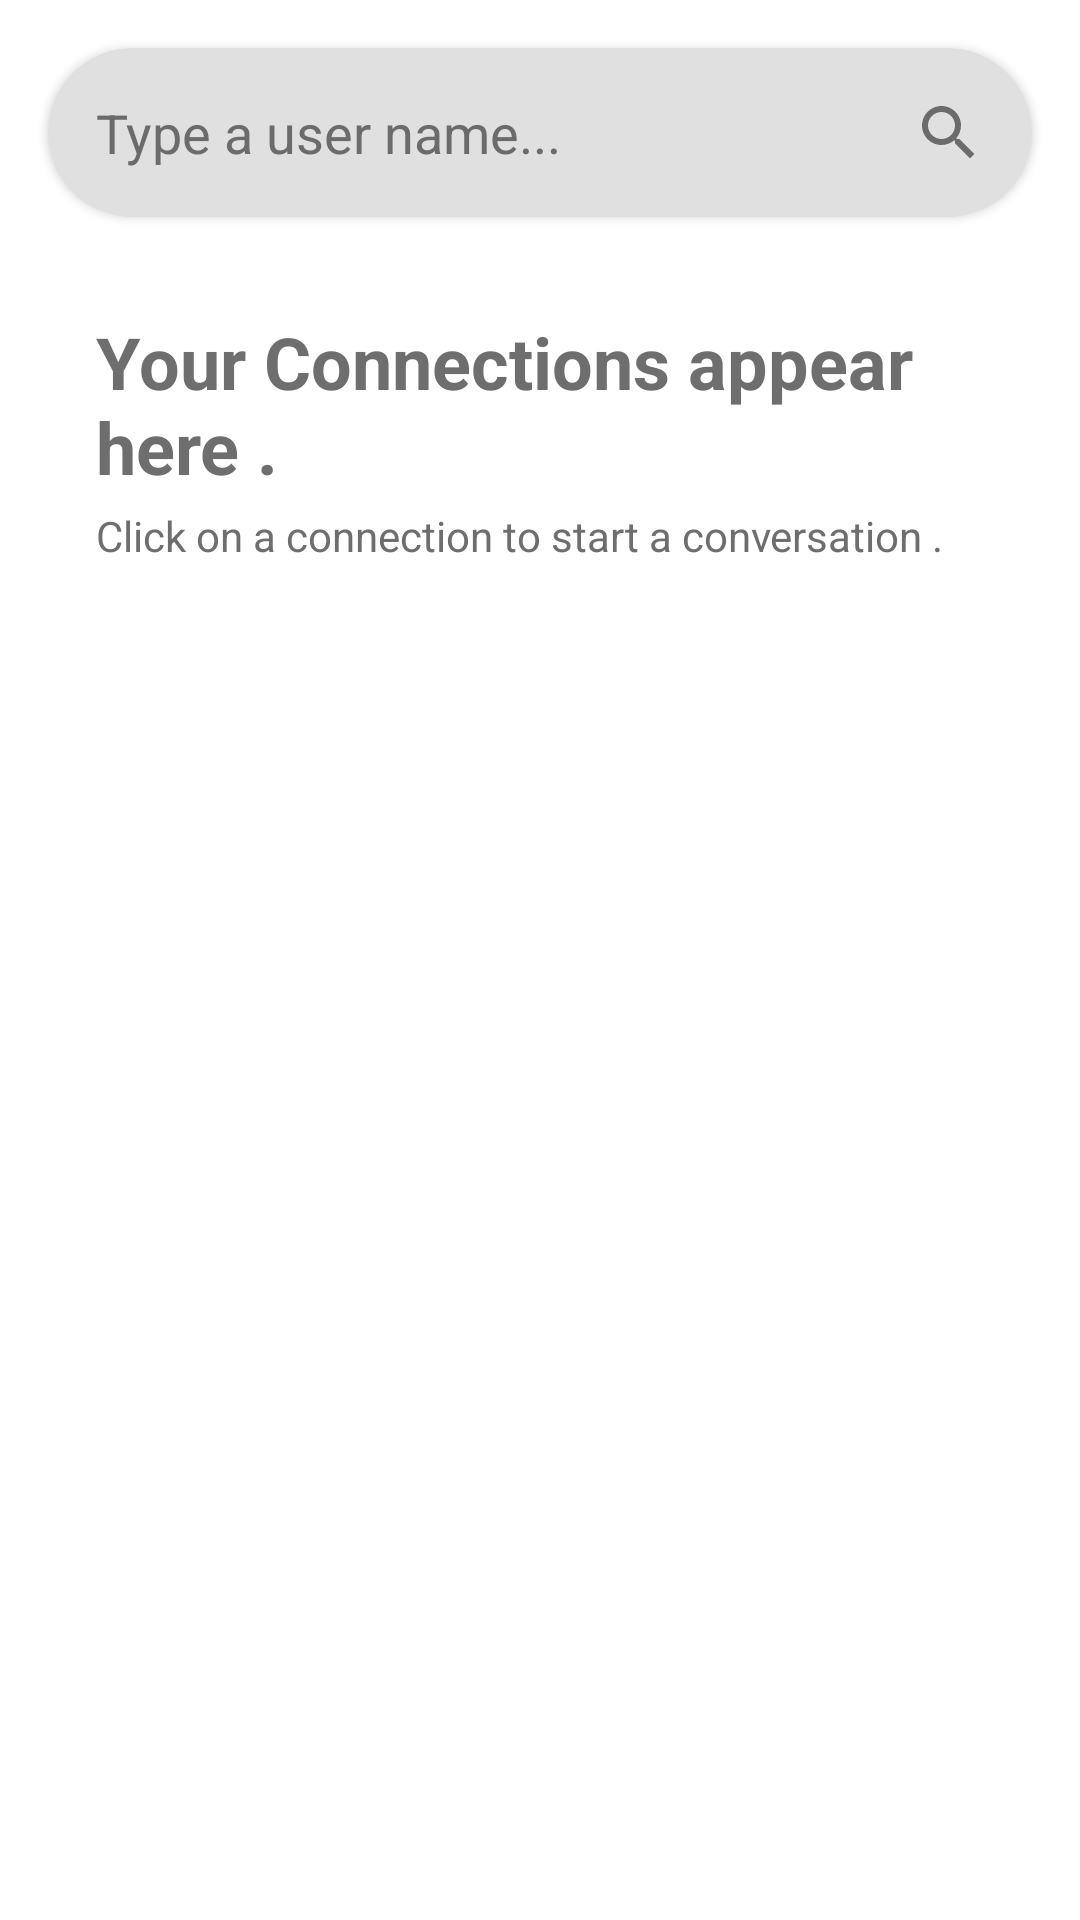

Locate icon controls on the screen. Image size 1080w x 1920h, boxes as (x1, y1, x2, y2).
search: (867, 48, 1031, 217)
